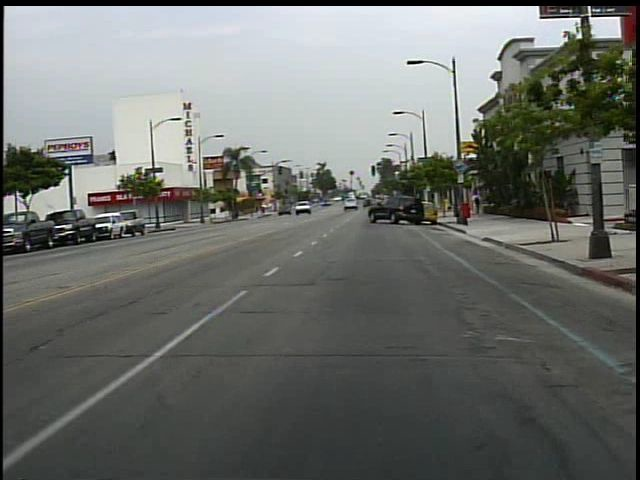person: (472, 189, 487, 219)
